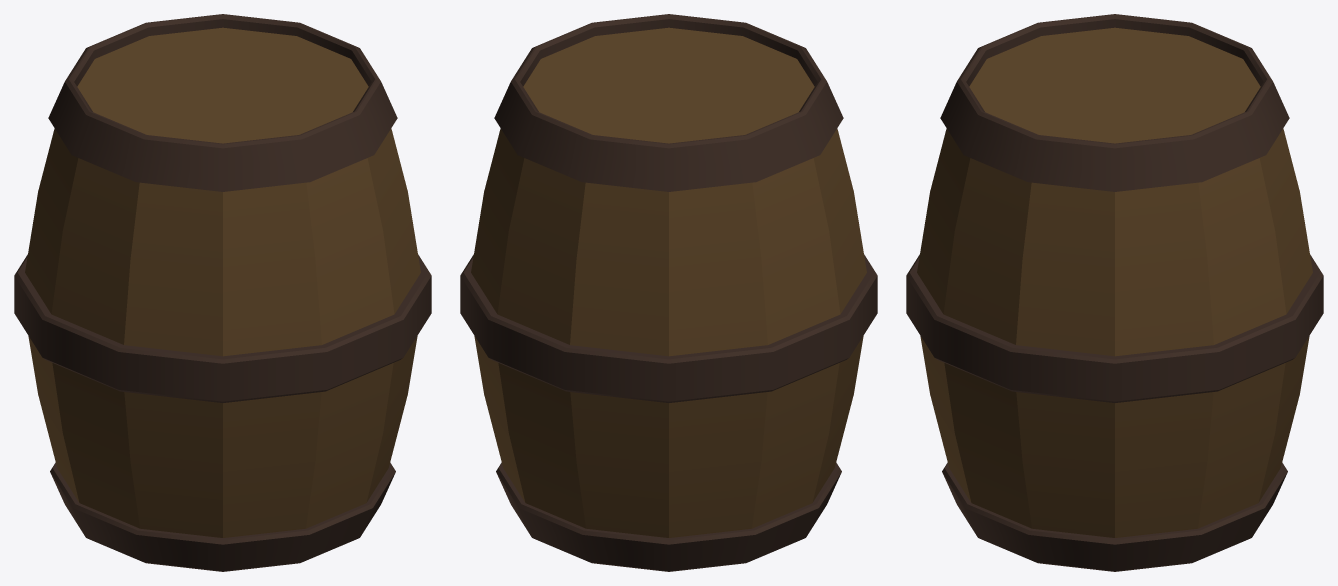
The model's file is Barrel.fbx.
3 views of the same model, side by side, from view 1: azimuth 30°, elevation 25°; view 2: azimuth 150°, elevation 25°; view 3: azimuth 270°, elevation 25° (orthographic).
Visible parts, largest first — view 1: pasted__pCylinder22; view 2: pasted__pCylinder22; view 3: pasted__pCylinder22.
Part boxes in pixels (<box>): pasted__pCylinder22: <box>14,14,431,571</box>; pasted__pCylinder22: <box>460,14,877,571</box>; pasted__pCylinder22: <box>906,14,1323,571</box>.
Size of the model in its own units: 6.59 by 7.45 by 6.59.
